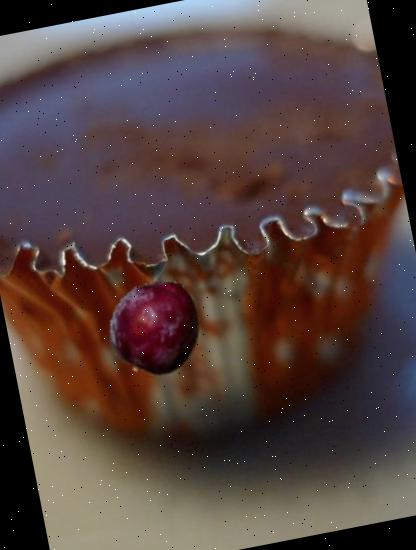Plum: (98, 268, 214, 384)
